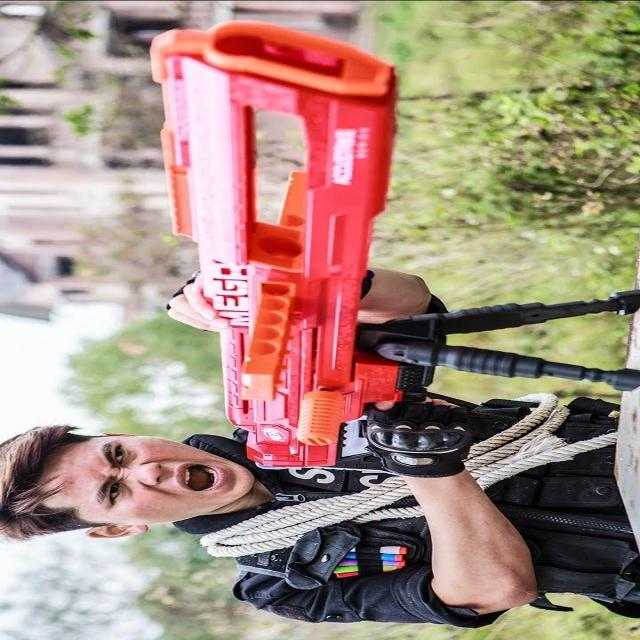Nerf gun: (142, 7, 638, 479)
